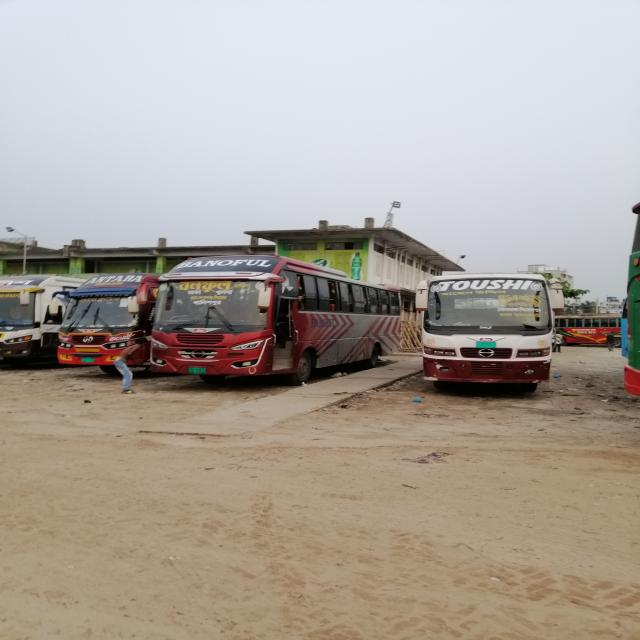Bus: (145, 255, 409, 377), (406, 271, 561, 387)
